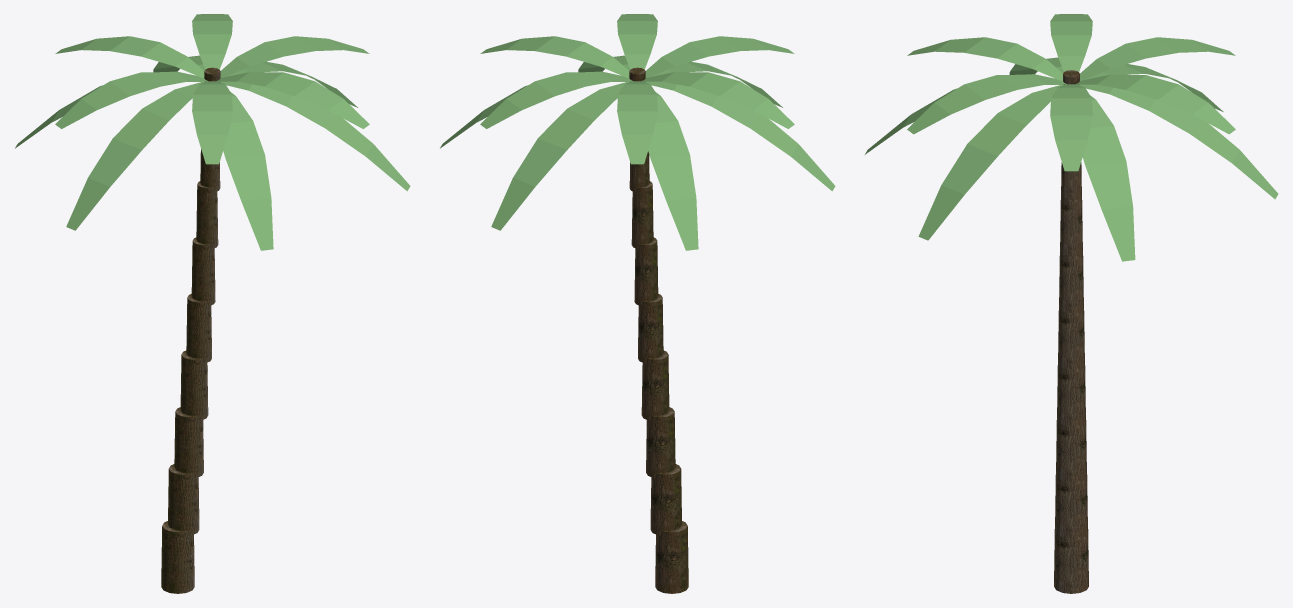
Rendered from palm_tree.glb.
3 views of the same model, side by side, from view 1: azimuth 30°, elevation 25°; view 2: azimuth 150°, elevation 25°; view 3: azimuth 270°, elevation 25° (orthographic). The views are drawn at different scales.
Parts seen in each view (by area): view 1: PalmRoot; view 2: PalmRoot; view 3: PalmRoot.
Boxes of the visible parts, box(x1,y1,x2,y2) form: PalmRoot: box(15, 14, 410, 593); PalmRoot: box(440, 14, 835, 593); PalmRoot: box(865, 14, 1278, 593).
Size of the model in its own units: 7.97 by 11.47 by 8.01.
2 materials, 1 textured.
